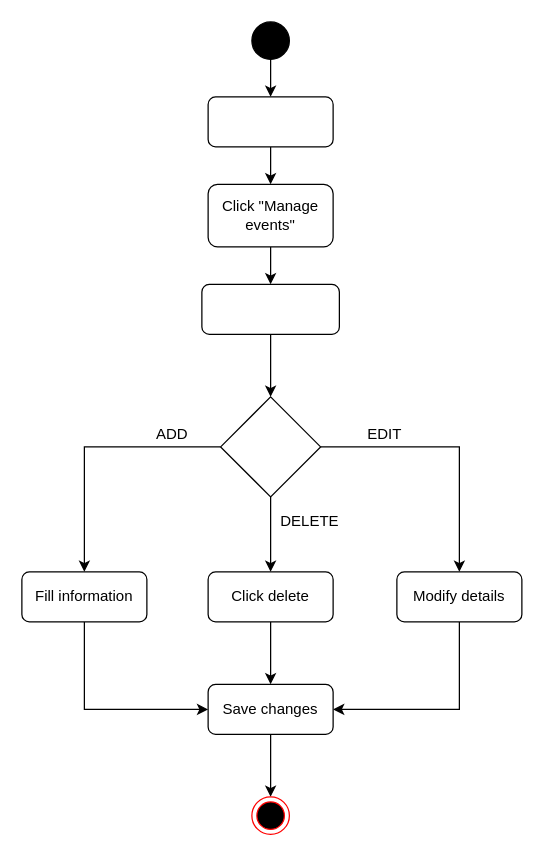
The diagram is 544 pixels wide and 856 high, and some of its shapes have lost their labels. Each missing label, with the centre of its shape:
"Log in as admin" belongs at [270,121].
"options" belongs at [270,446].
"Select an event" belongs at [270,308].
